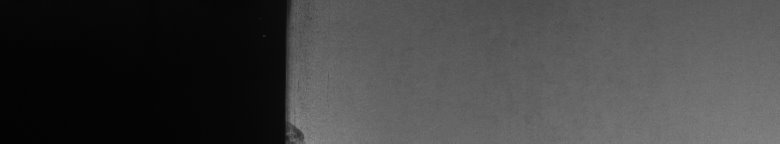hb: (296, 120, 308, 136)
